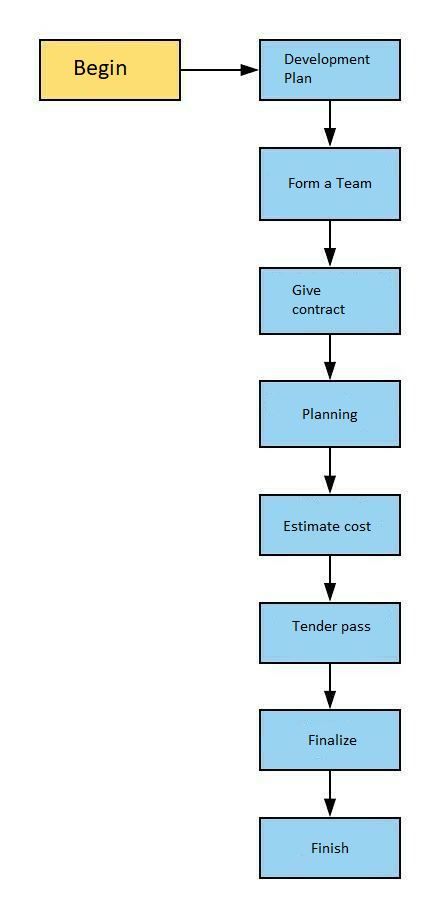arrow: (180, 62, 264, 77), (320, 216, 338, 267), (321, 442, 338, 495), (323, 658, 339, 709), (321, 101, 338, 148), (321, 331, 337, 379), (323, 554, 338, 601), (324, 765, 337, 817)
process: (253, 142, 406, 226), (255, 263, 405, 340), (255, 376, 405, 452), (33, 34, 185, 106), (255, 704, 406, 776), (253, 34, 406, 105), (255, 490, 405, 561), (255, 597, 405, 667), (255, 813, 405, 883)
text: (278, 51, 373, 84), (287, 281, 348, 319), (278, 517, 376, 537), (281, 173, 374, 194), (289, 615, 371, 637), (69, 56, 131, 80), (298, 402, 364, 424), (303, 729, 362, 749), (306, 838, 353, 858)
